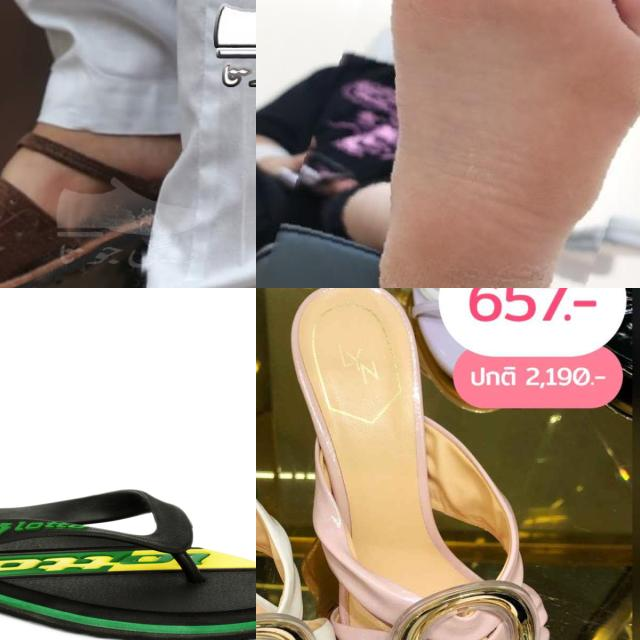Barefoots: (373, 0, 640, 288)
Sandals: (262, 288, 601, 640), (256, 288, 378, 640), (0, 483, 256, 640)
